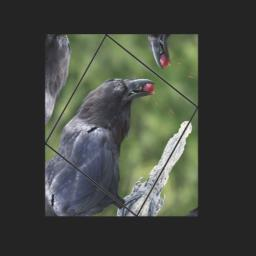Crow: (52, 45, 194, 215)
